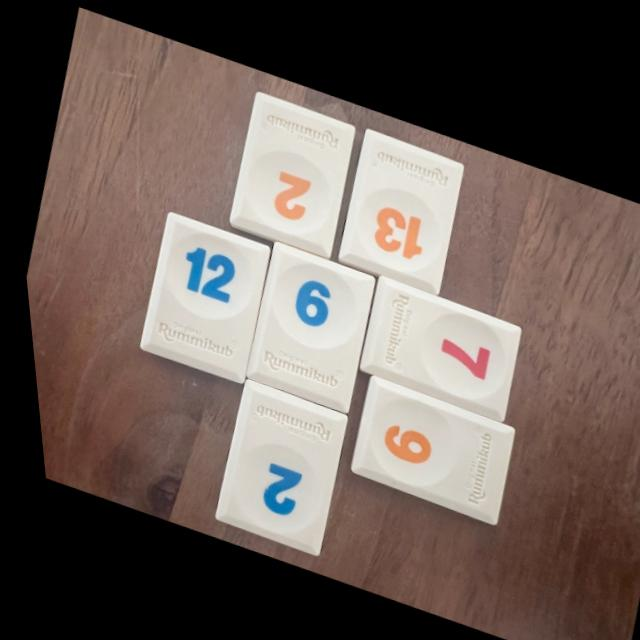blue_12: (133, 210, 264, 380)
blue_2: (205, 376, 339, 550)
blue_6: (238, 238, 369, 408)
orange_13: (333, 123, 459, 287)
orange_2: (225, 88, 352, 254)
orange_6: (341, 370, 505, 517)
red_7: (354, 270, 514, 414)
